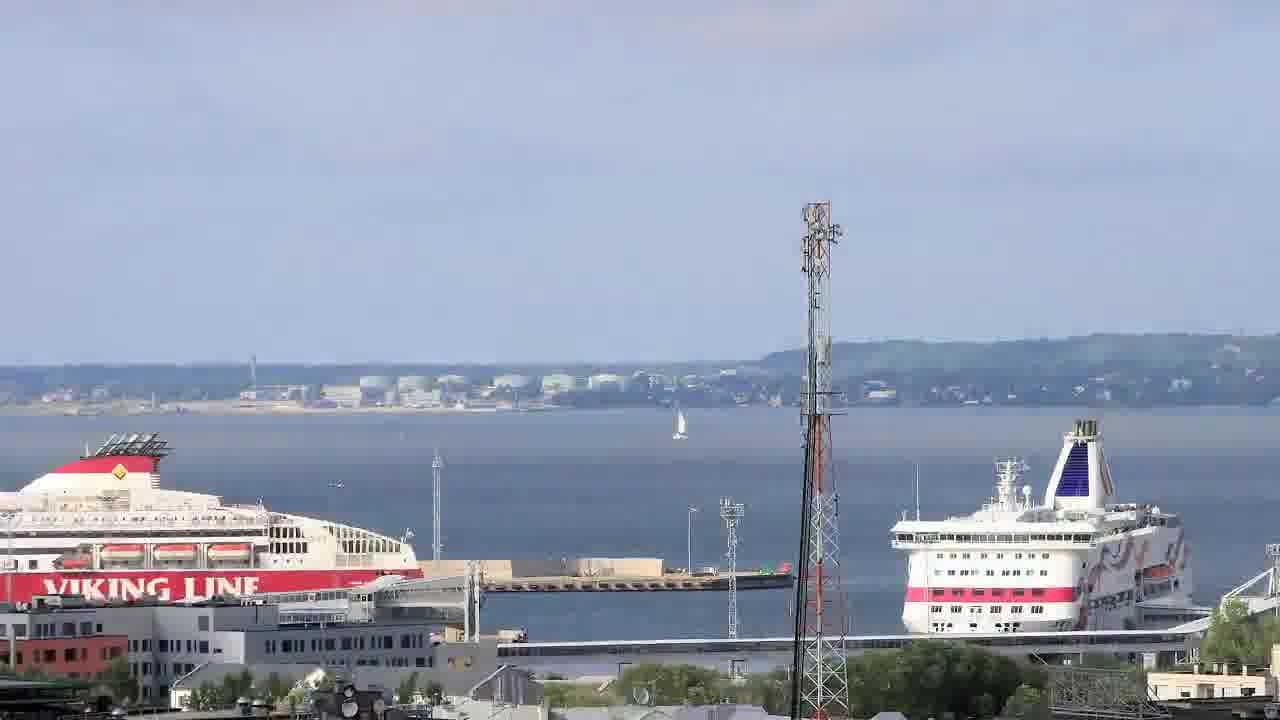type-2: (653, 395, 731, 454)
type-3: (0, 435, 436, 625), (868, 415, 1225, 638)
